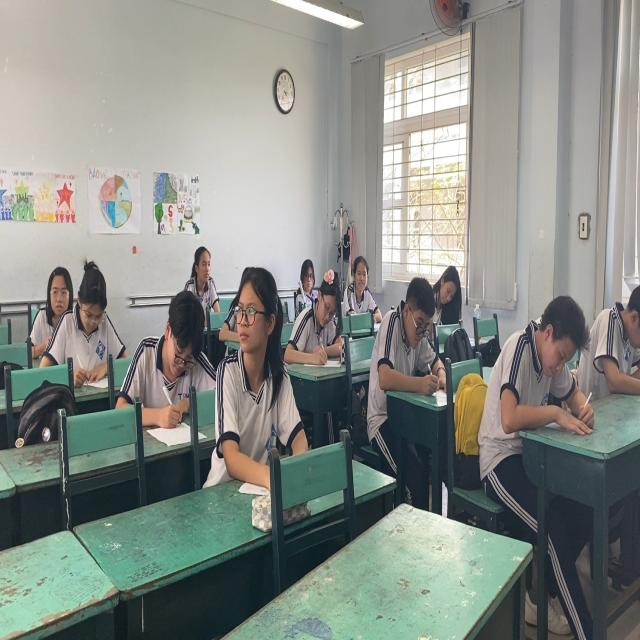cheating: (225, 266, 295, 458)
not_cheating: (501, 268, 591, 428), (144, 286, 218, 403), (64, 255, 122, 368), (375, 278, 437, 376), (586, 282, 640, 389), (308, 268, 349, 352), (186, 241, 223, 327), (44, 255, 75, 331), (346, 248, 376, 317), (431, 266, 462, 324), (293, 258, 314, 296)
